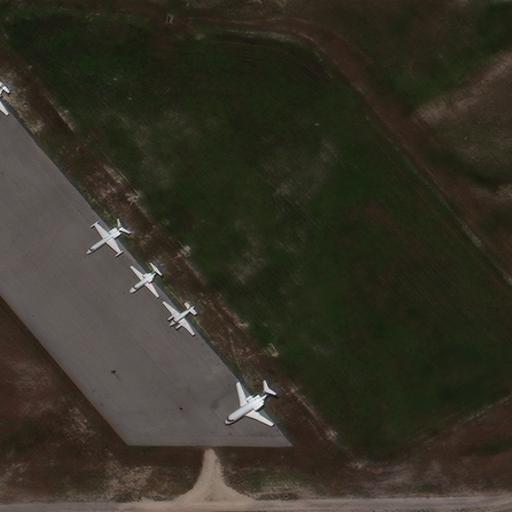Medium Civil Transport: (225, 380, 274, 428), (162, 302, 195, 337)
Small Civil Transport: (86, 224, 124, 254), (129, 266, 158, 297)
